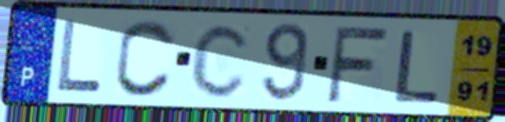9: (260, 21, 311, 104)
C: (112, 16, 178, 99), (188, 21, 254, 101)
F: (324, 24, 392, 105)
L: (391, 28, 443, 105), (55, 17, 105, 94)
